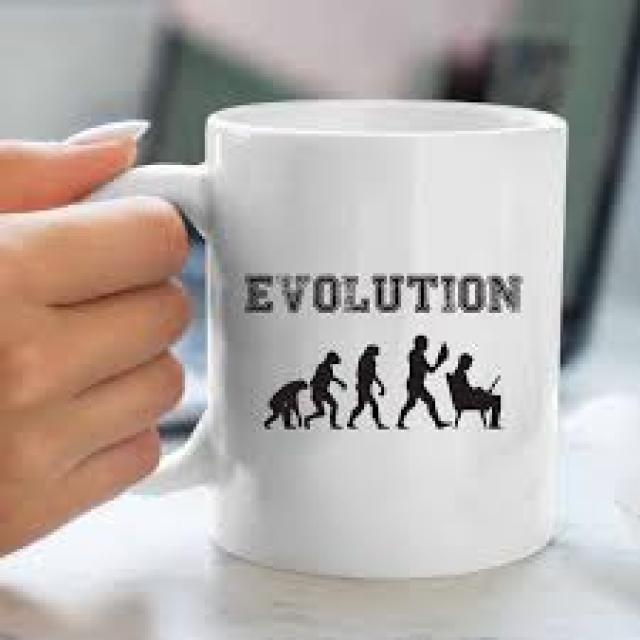taza: (71, 100, 567, 582)
